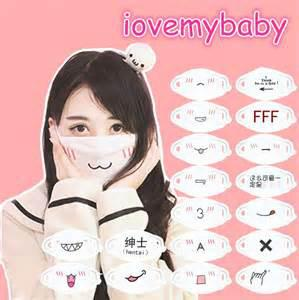OK: (61, 108, 137, 182)
